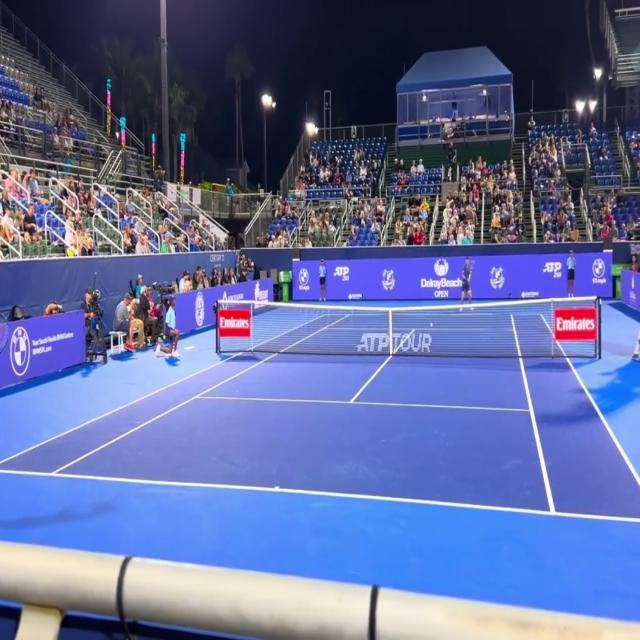tennisBall: (430, 319, 434, 331)
